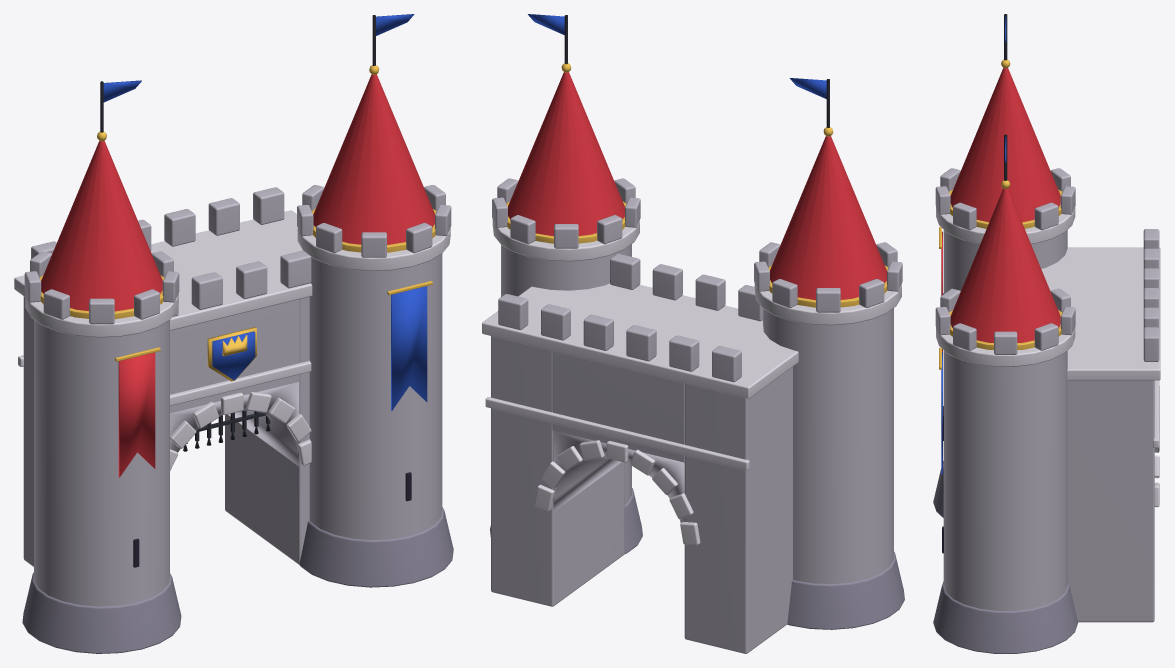
File: faire_gatehouse.glb
3 views of the same model, side by side, from view 1: azimuth 30°, elevation 25°; view 2: azimuth 150°, elevation 25°; view 3: azimuth 270°, elevation 25° (orthographic). The views are drawn at different scales.
Visible parts, largest first — view 1: Gatehouse; view 2: Gatehouse; view 3: Gatehouse.
Boxes of the visible parts, box(x1,y1,x2,y2) form: Gatehouse: box(14, 14, 453, 653); Gatehouse: box(482, 14, 904, 653); Gatehouse: box(933, 14, 1160, 653).
Size of the model in its own units: 13.83 by 17.4 by 7.34.
